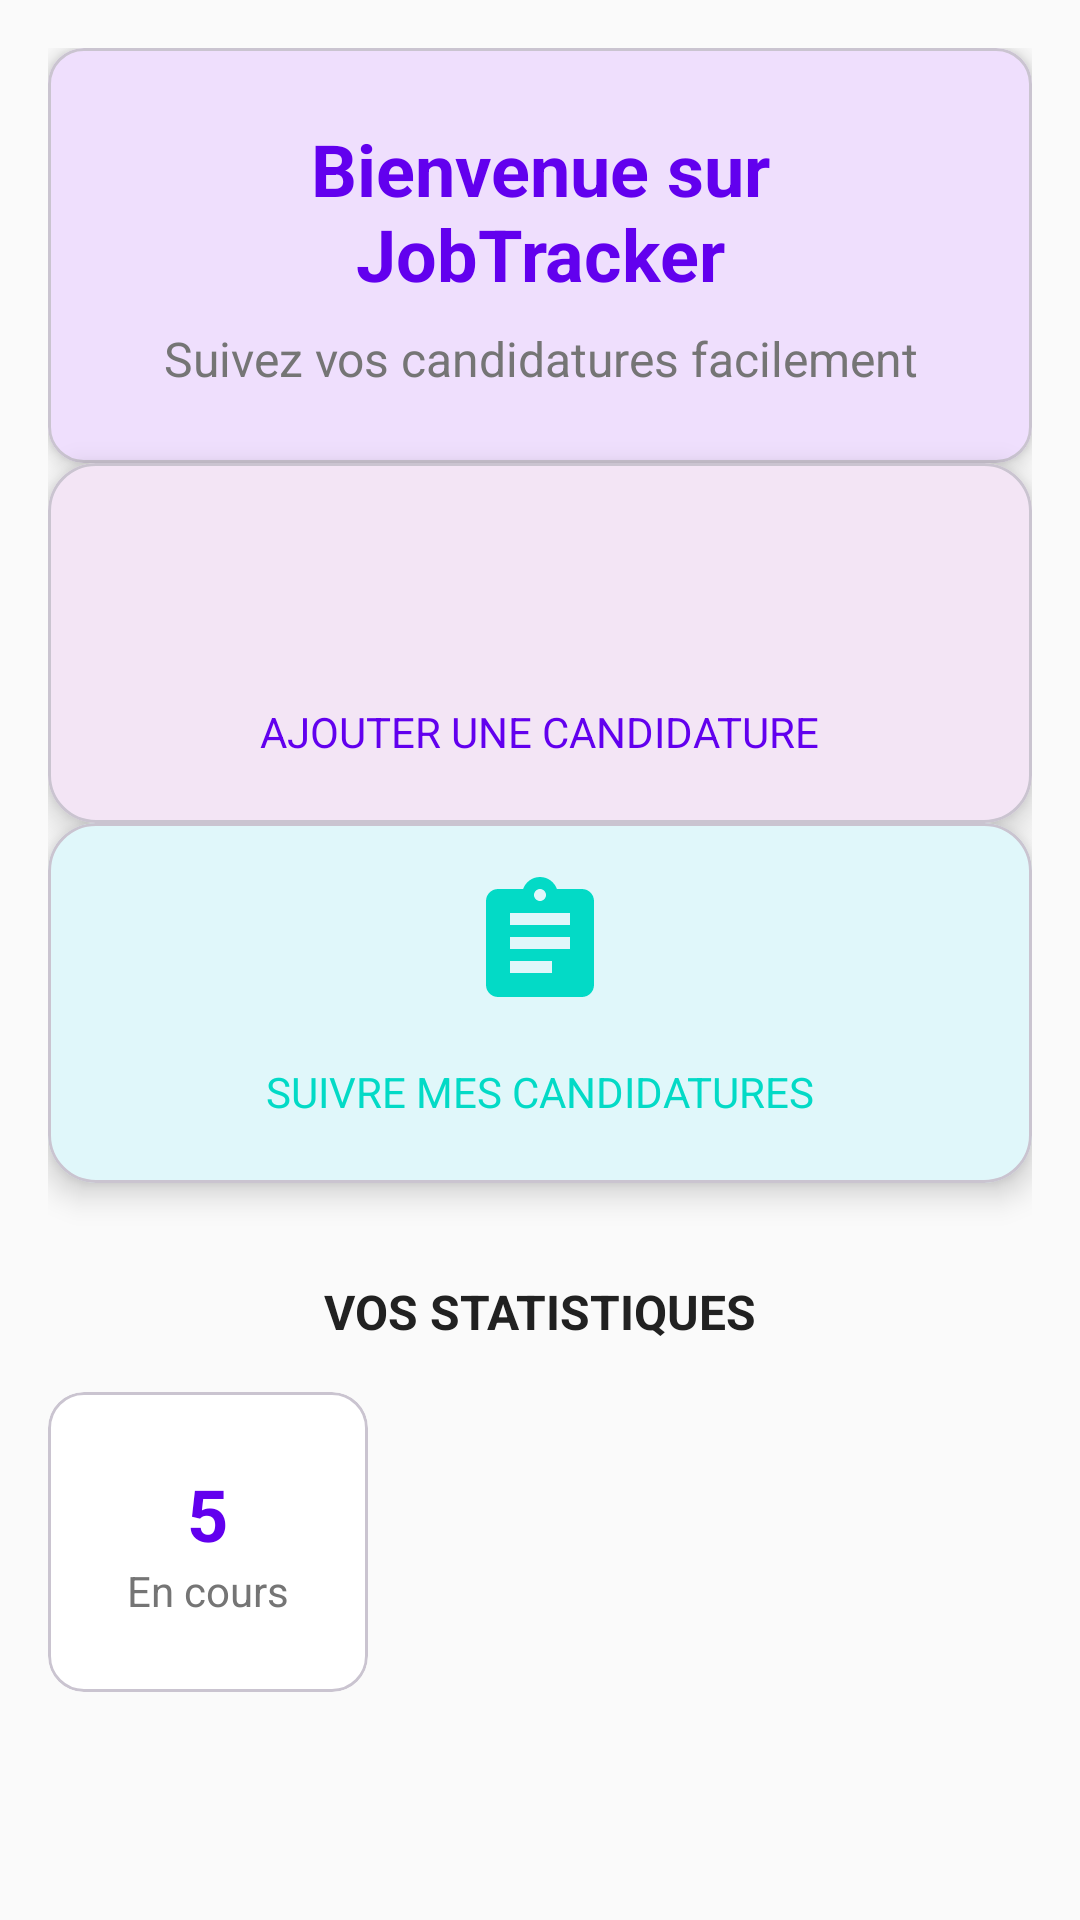

Where icons sit on this 1080*1920 app screen, as [x1=x1, y1=y1, x2=x2, y2=y2]:
track applications: [x1=486, y1=877, x2=594, y2=997]
